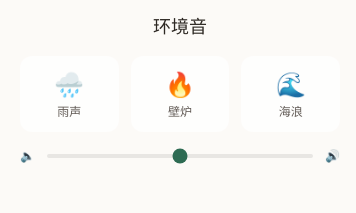
Test: AmbientPlayer › 播放控制 › 点击音效 → 创建 Audio 对象并标记 playing
expect the text "雨声" is shown: met, box left=57, top=104, right=81, bottom=120
Click the button "🌧 雨声": click(69, 94) left=20, top=56, right=119, bottom=132
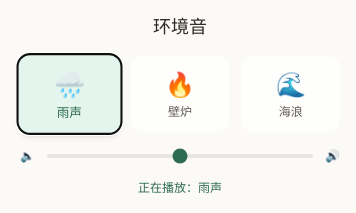
expect the text "正在播放：雨声" is shown: met, box left=138, top=180, right=222, bottom=196
